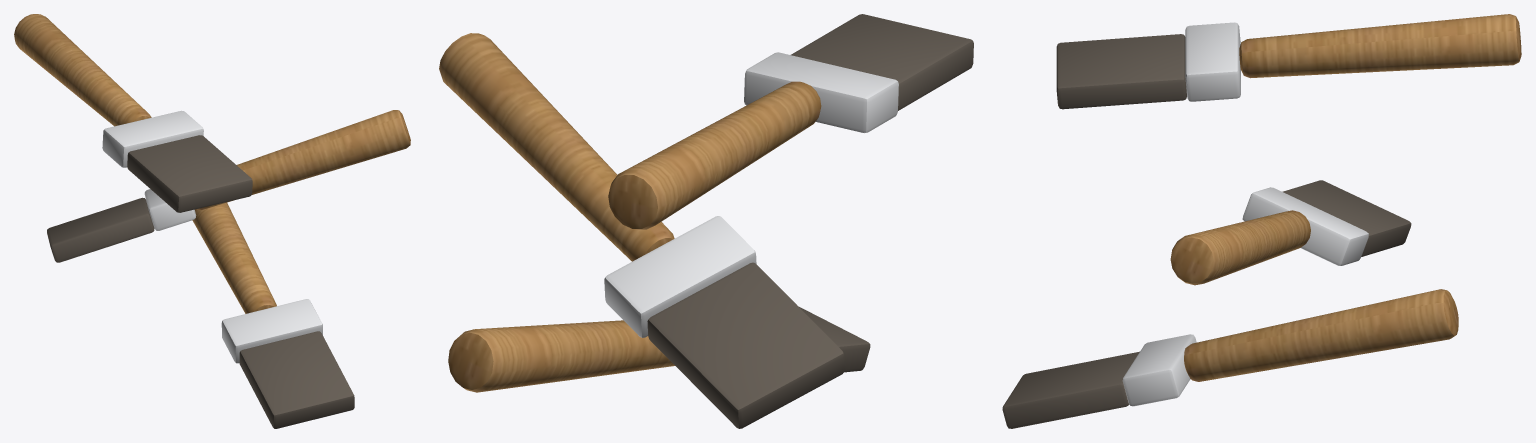
File: PIN-FER-002_anim.glb
The picture shows the model from 3 angles, left to right: view 1: azimuth 30°, elevation 25°; view 2: azimuth 150°, elevation 25°; view 3: azimuth 270°, elevation 25°; orthographic projection. The views are drawn at different scales.
Visible parts, largest first — view 1: PIN-FER-002_anim0, PIN-FER-002_anim2, PIN-FER-002_anim1; view 2: PIN-FER-002_anim1, PIN-FER-002_anim2, PIN-FER-002_anim0; view 3: PIN-FER-002_anim2, PIN-FER-002_anim0, PIN-FER-002_anim1.
Boxes of the visible parts, x1,y1,x2,y2 form: PIN-FER-002_anim0: (192,202,354,428); PIN-FER-002_anim2: (14,14,252,212); PIN-FER-002_anim1: (47,110,410,262); PIN-FER-002_anim1: (439,33,845,428); PIN-FER-002_anim2: (608,14,973,229); PIN-FER-002_anim0: (448,306,870,392); PIN-FER-002_anim2: (1056,14,1521,109); PIN-FER-002_anim0: (1002,289,1458,428); PIN-FER-002_anim1: (1170,180,1411,285).
Bounding box in the file's own units: 0.2044 × 0.1797 × 0.2402.
Materials: 3 (1 with a texture image).
